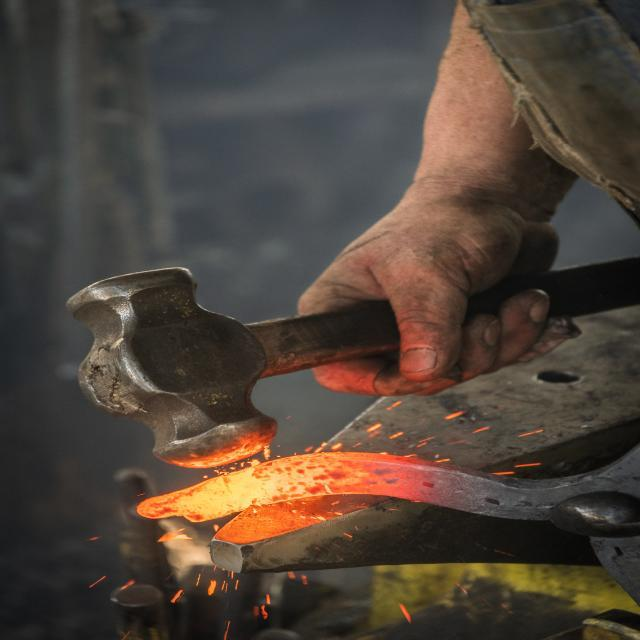hammer: (52, 257, 638, 476)
